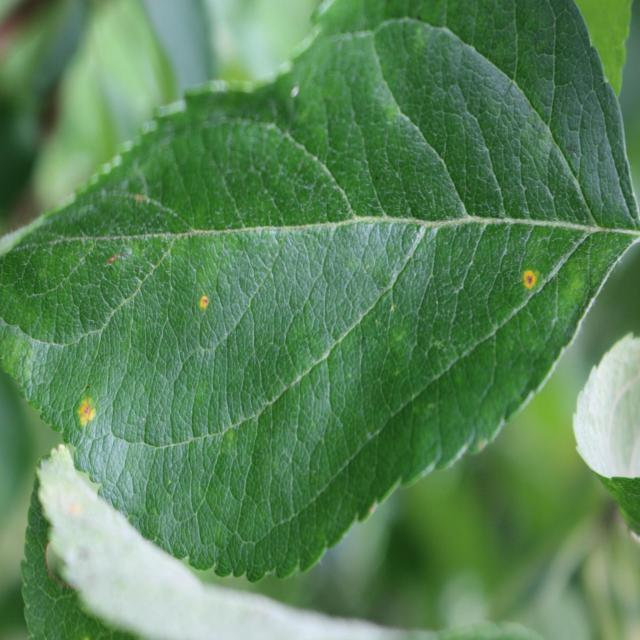Rust: (76, 389, 106, 436), (517, 256, 546, 298), (193, 286, 221, 320)
